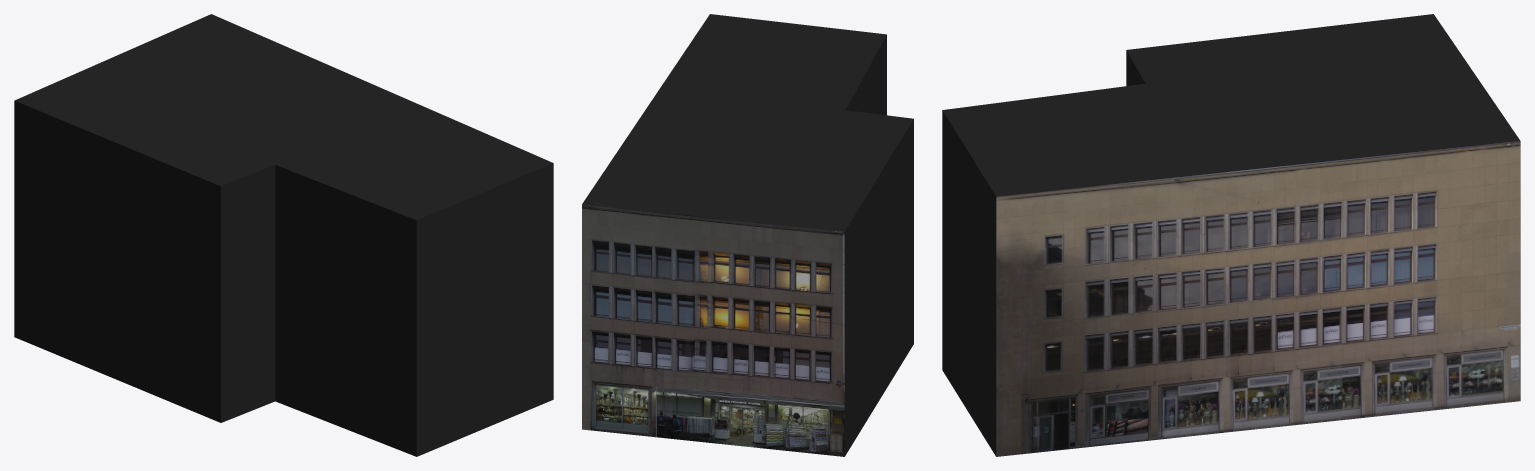
Rendered from B_Ges_Scholl_Platz_2.FBX.
The picture shows the model from 3 angles, left to right: view 1: azimuth 30°, elevation 25°; view 2: azimuth 150°, elevation 25°; view 3: azimuth 270°, elevation 25°; orthographic projection. The views are drawn at different scales.
Visible parts, largest first — view 1: B_Ges_Scholl_Platz_2; view 2: B_Ges_Scholl_Platz_2, B_Ges_Scholl_Platz_2_front; view 3: B_Ges_Scholl_Platz_2_Side, B_Ges_Scholl_Platz_2.
Part boxes in pixels (left/top/right/bottom): B_Ges_Scholl_Platz_2: left=14, top=14, right=553, bottom=456; B_Ges_Scholl_Platz_2: left=582, top=14, right=913, bottom=456; B_Ges_Scholl_Platz_2_front: left=582, top=204, right=844, bottom=456; B_Ges_Scholl_Platz_2_Side: left=996, top=141, right=1520, bottom=456; B_Ges_Scholl_Platz_2: left=942, top=14, right=1520, bottom=456.
Size of the model in its own units: 2408 by 1600 by 3220.
Materials: 3 (2 with a texture image).
